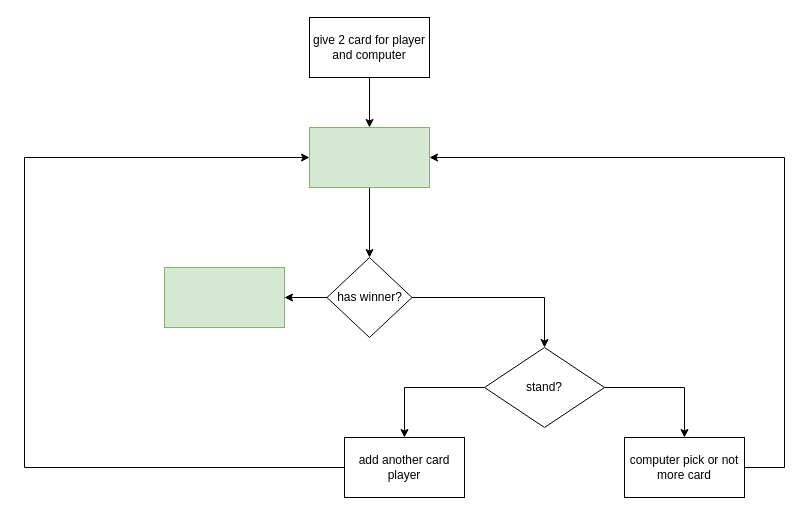
Some shapes in this 810 by 515 pixel diagram are drawn without their labels. Each missing label, with the box of its shape:
show player cards and first computer card: (308, 126, 430, 188)
show winner: (164, 266, 284, 328)
